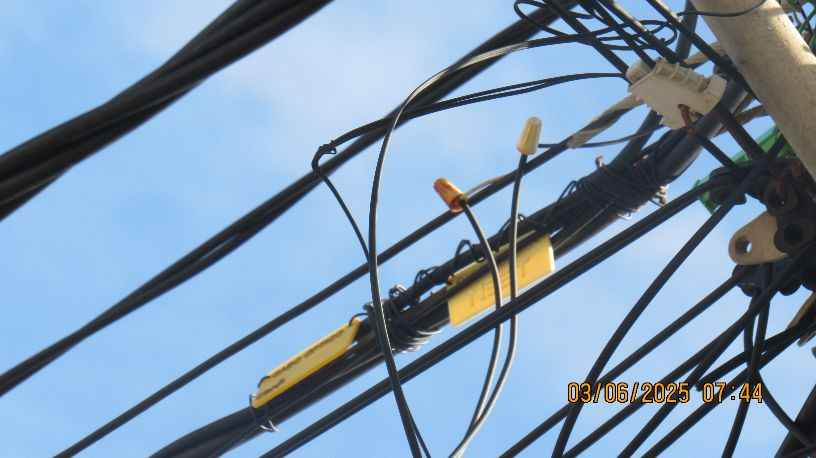drop: (698, 144, 813, 300), (606, 56, 740, 134)
fibra_optica: (230, 302, 379, 420), (423, 215, 570, 332), (461, 182, 493, 212)
